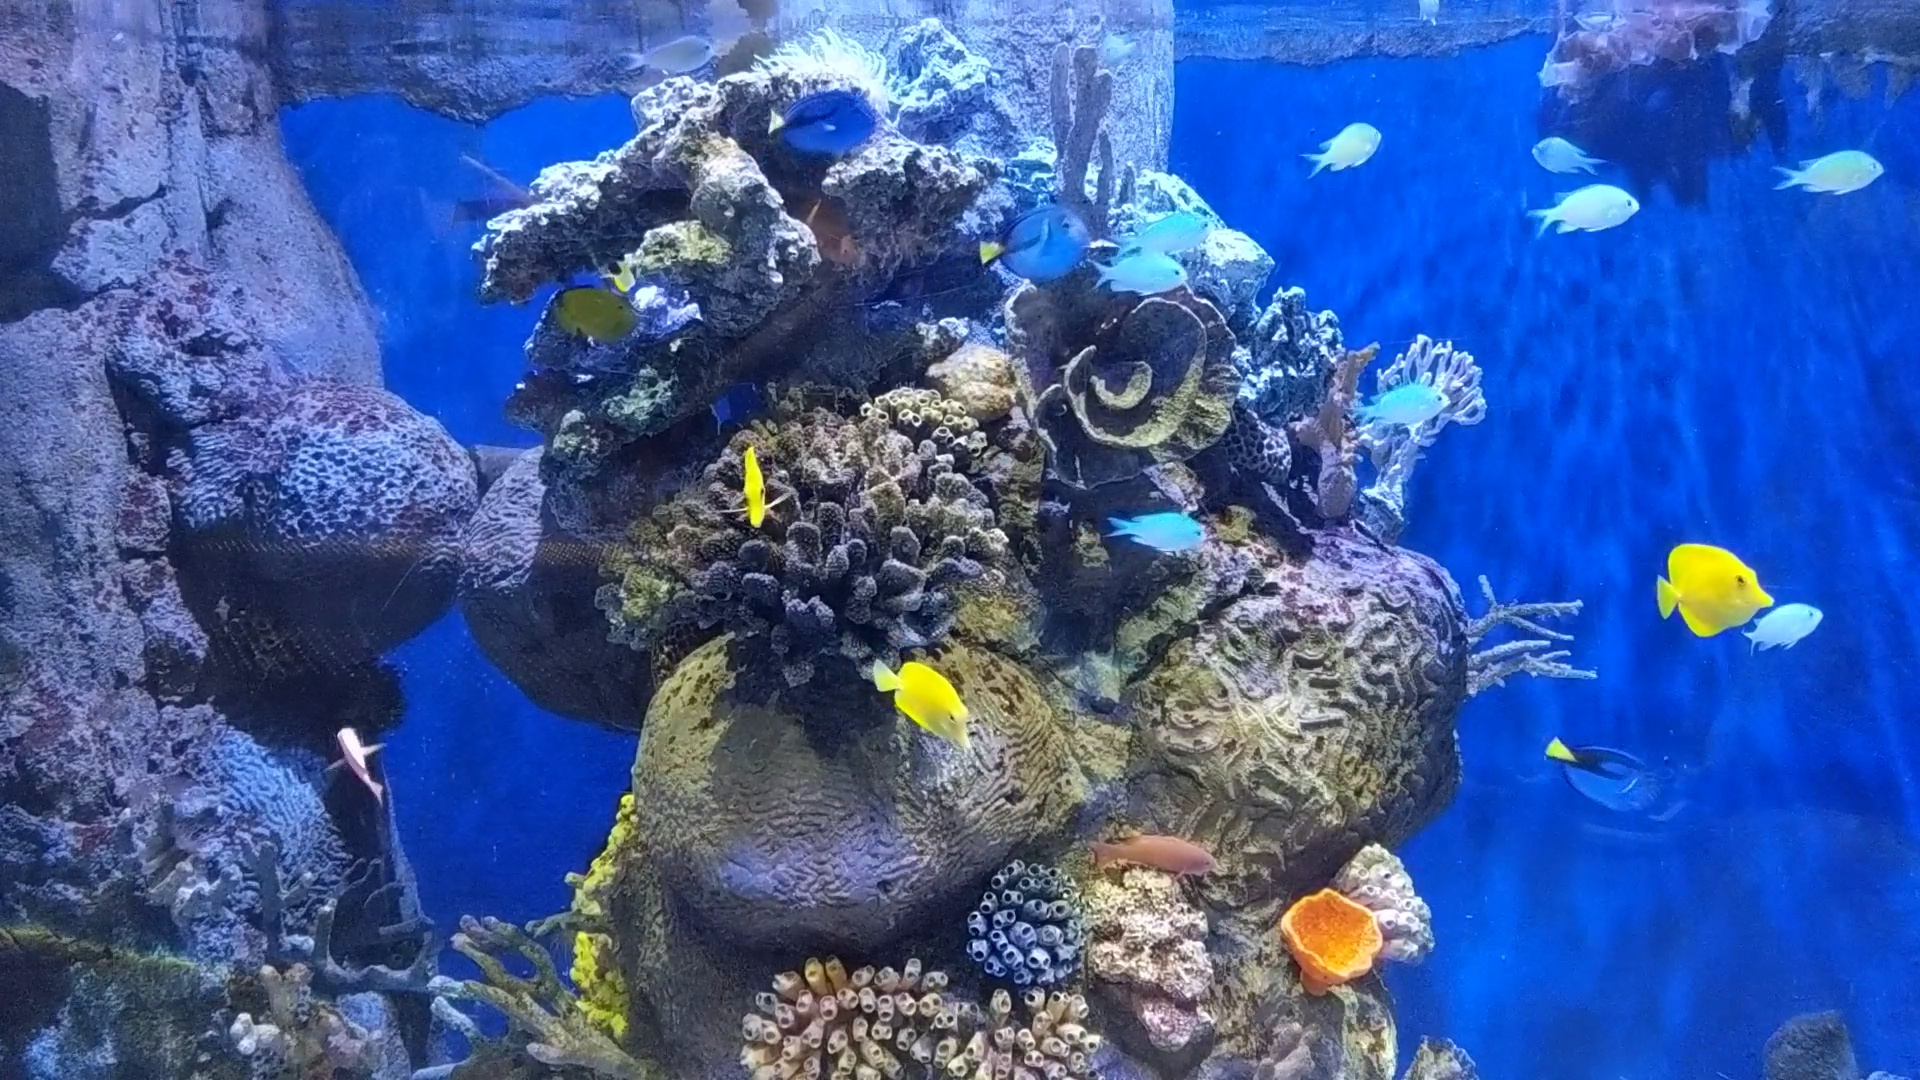blue tang surgeonfish: (1538, 723, 1688, 815), (760, 88, 887, 152), (971, 204, 1088, 272)
damselfish: (1524, 178, 1644, 241), (1760, 144, 1892, 196), (1735, 597, 1832, 654), (1296, 119, 1385, 179), (1101, 508, 1207, 558), (1088, 255, 1197, 301), (1113, 214, 1218, 255), (1352, 386, 1457, 425), (625, 33, 723, 73), (1524, 131, 1610, 171), (1087, 22, 1139, 67)
saddle butterfly fish: (1655, 531, 1775, 640), (866, 641, 975, 750), (534, 285, 653, 348), (737, 440, 770, 525)
